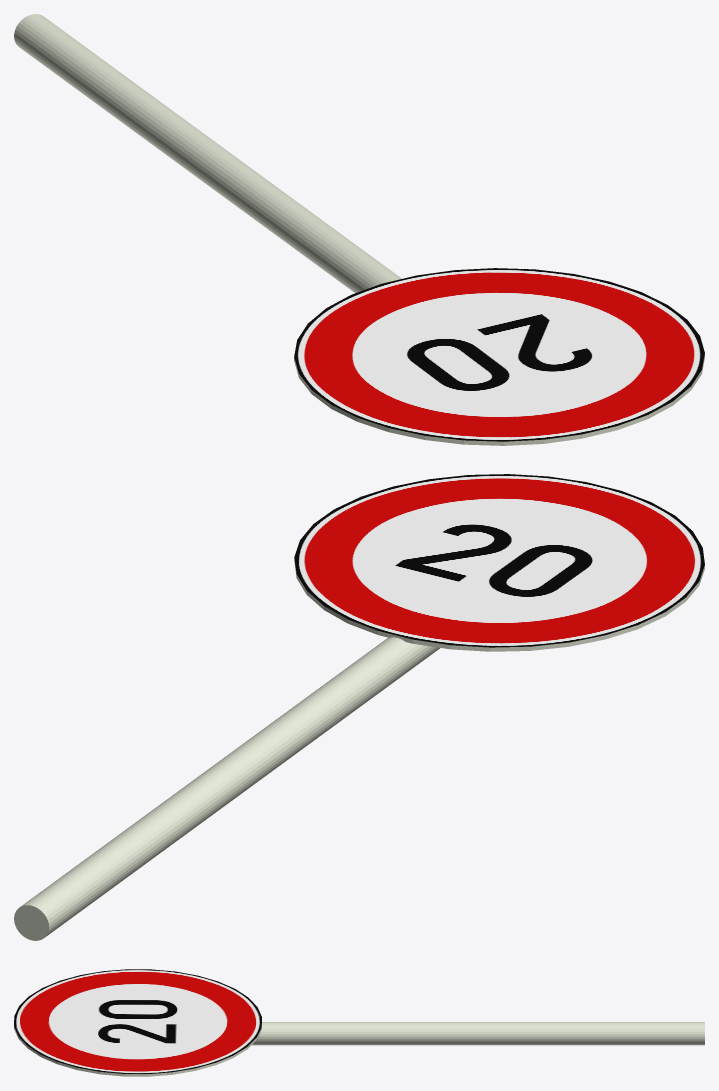
The picture shows the model from 3 angles, top to bottom: view 1: azimuth 30°, elevation 25°; view 2: azimuth 150°, elevation 25°; view 3: azimuth 270°, elevation 25°; orthographic projection. The views are drawn at different scales.
Parts seen in each view (by area): view 1: Circle.010, 20_tube; view 2: Circle.010, 20_tube; view 3: Circle.010, 20_tube.
Part boxes in pixels (x1,y1,x2,y2): Circle.010: [294, 268, 704, 445]; 20_tube: [14, 14, 401, 293]; Circle.010: [294, 474, 704, 651]; 20_tube: [14, 637, 439, 940]; Circle.010: [14, 969, 261, 1076]; 20_tube: [252, 1022, 704, 1045].
Bounding box in the file's own units: 0.0516 × 0.00514 × 0.1437.
3 materials, 1 textured.
